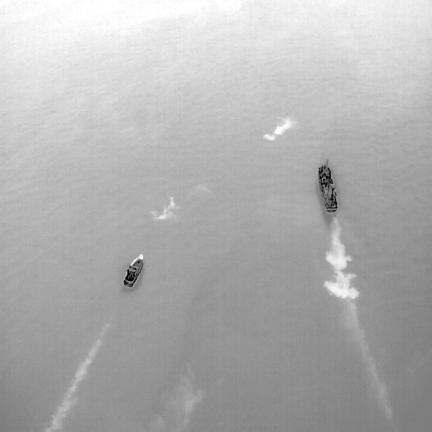flukeprints: (151, 197, 178, 219), (273, 118, 294, 134), (263, 134, 275, 140)
